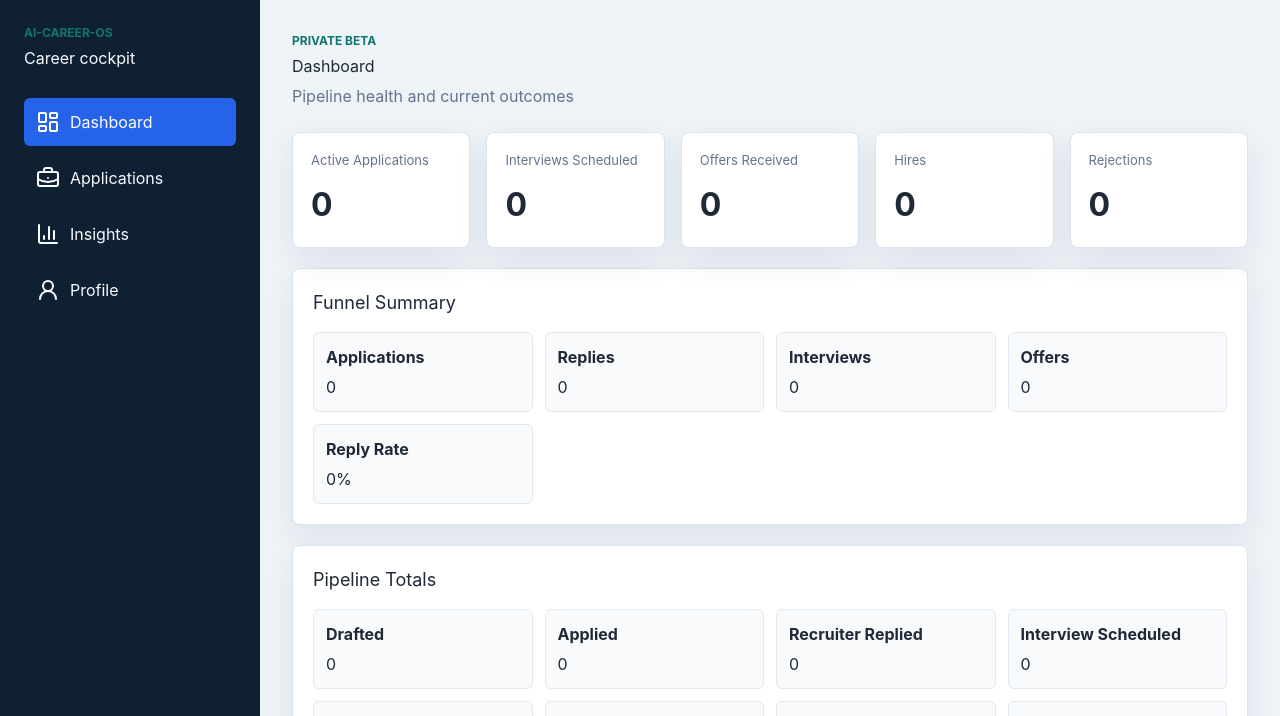
Scenario: App › renders the kanban board and application detail
The width and height of the screenshot is (1280, 716).
Click the button "Applications".
click(130, 178)  # box [24,154,236,202]
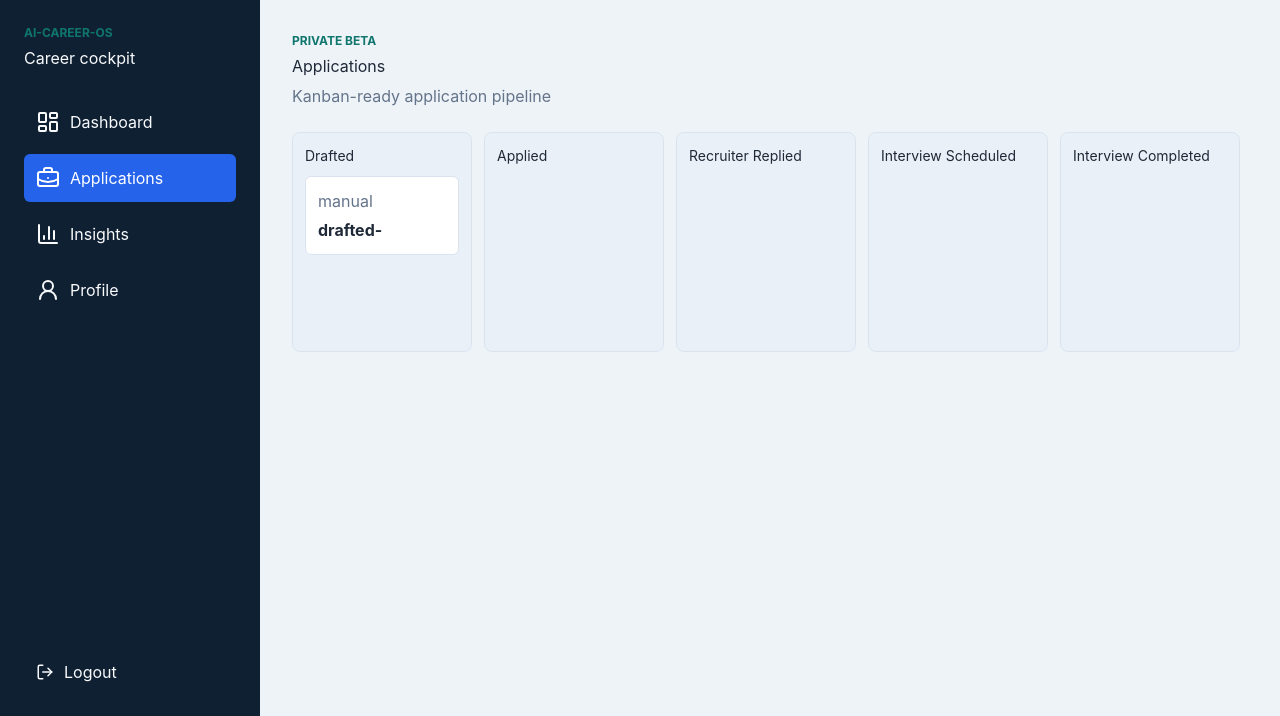
Expected: the element with test id "kanban-board" is shown, [292,132,1248,364]
Click the text "drafted-".
click(350, 230)  # box [318,220,382,240]
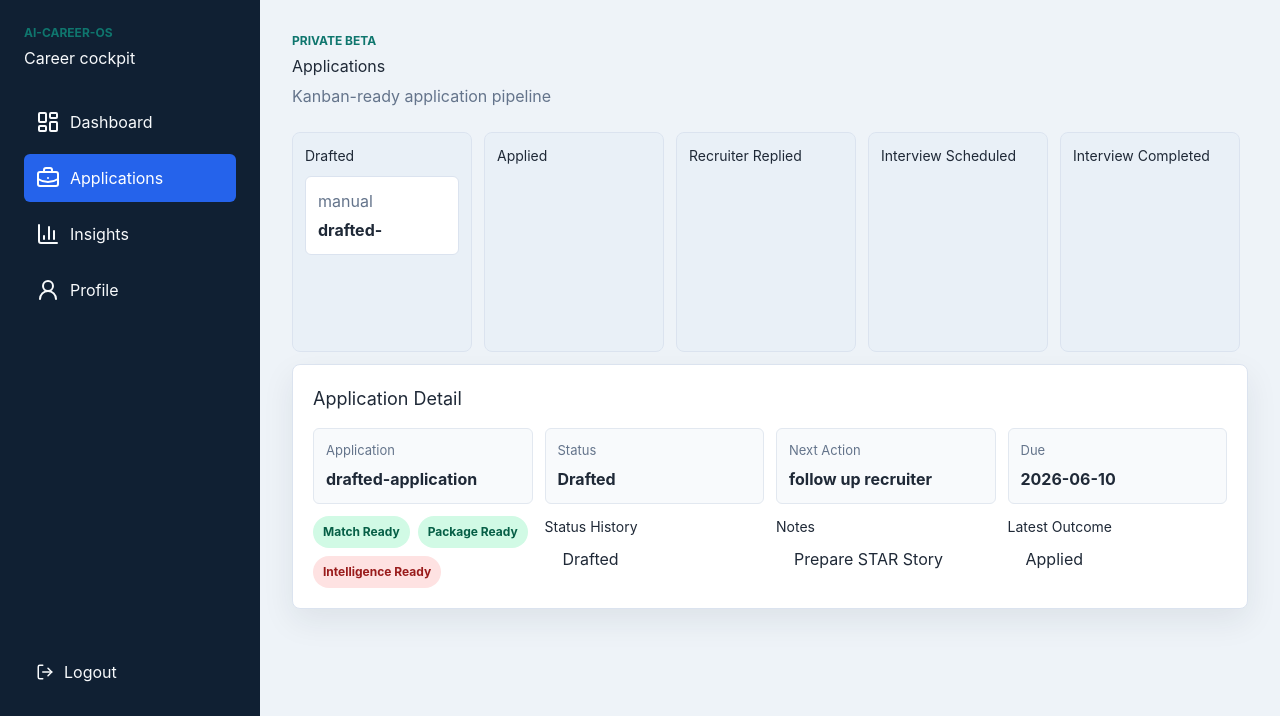
Expected: the element with test id "application-detail" is shown, [313,428,1227,588]
Expected: the text "follow up recruiter" is shown, [789,468,932,488]
Expected: the list item "Prepare STAR Story" is shown, [794,548,943,568]
